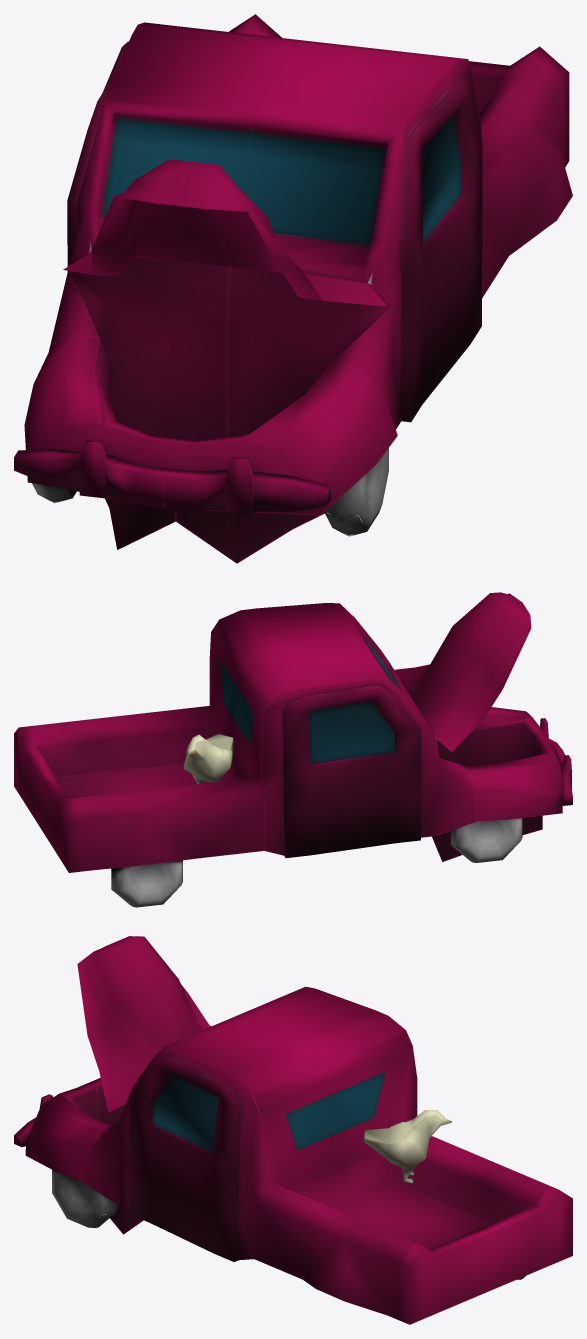
The model's file is HD_Build_Harvester_Chickencoup_2x2_Mesh002.FBX.
3 views of the same model, one above another, from view 1: azimuth 30°, elevation 25°; view 2: azimuth 150°, elevation 25°; view 3: azimuth 270°, elevation 25° (orthographic). The views are drawn at different scales.
Visible parts, largest first — view 1: Box055; view 2: Box055; view 3: Box055.
Part boxes in pixels (left/top/right/bottom): Box055: left=14, top=14, right=572, bottom=563; Box055: left=14, top=592, right=572, bottom=907; Box055: left=14, top=936, right=572, bottom=1324.
Bounding box in the file's own units: 190 × 89.82 × 190.
Materials: 1 (1 with a texture image).
